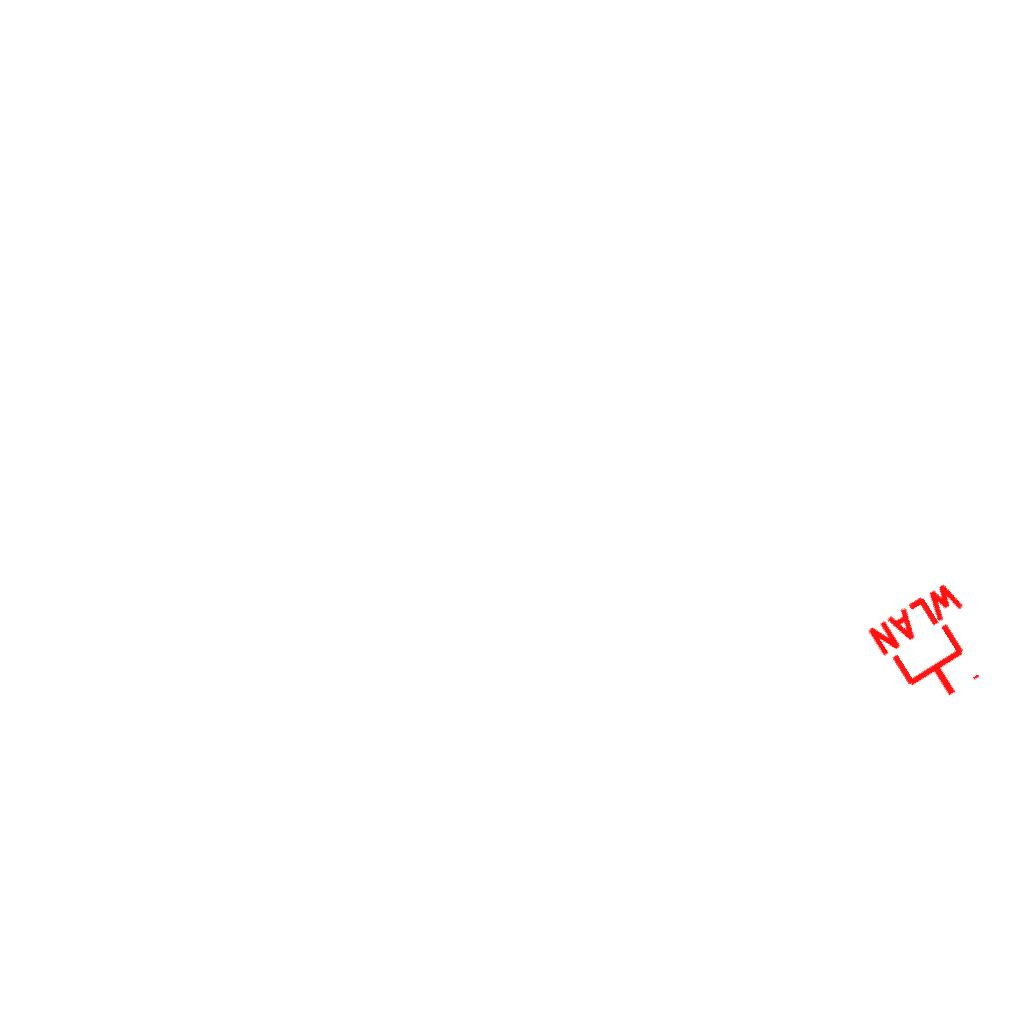WLAN: (862, 575, 1007, 721)
